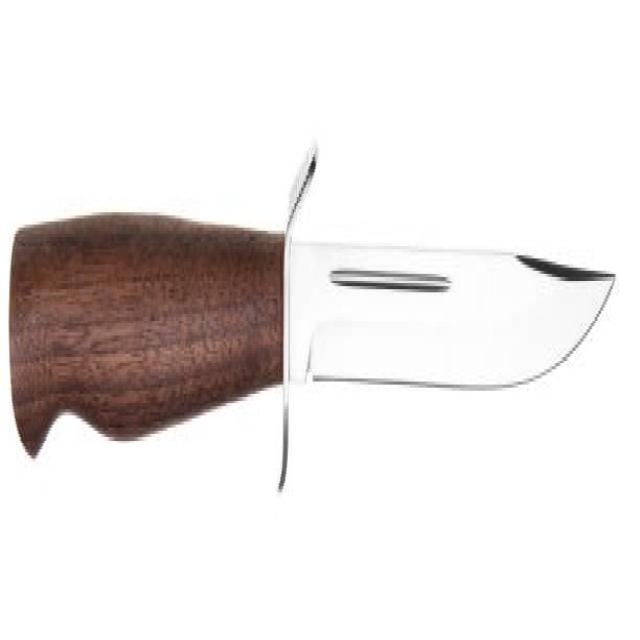knife: (4, 117, 632, 516)
